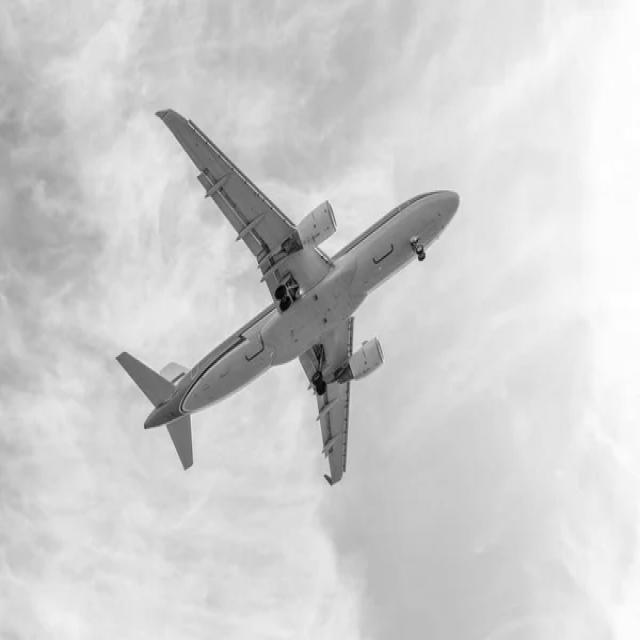Aircraft: (114, 105, 462, 484)
